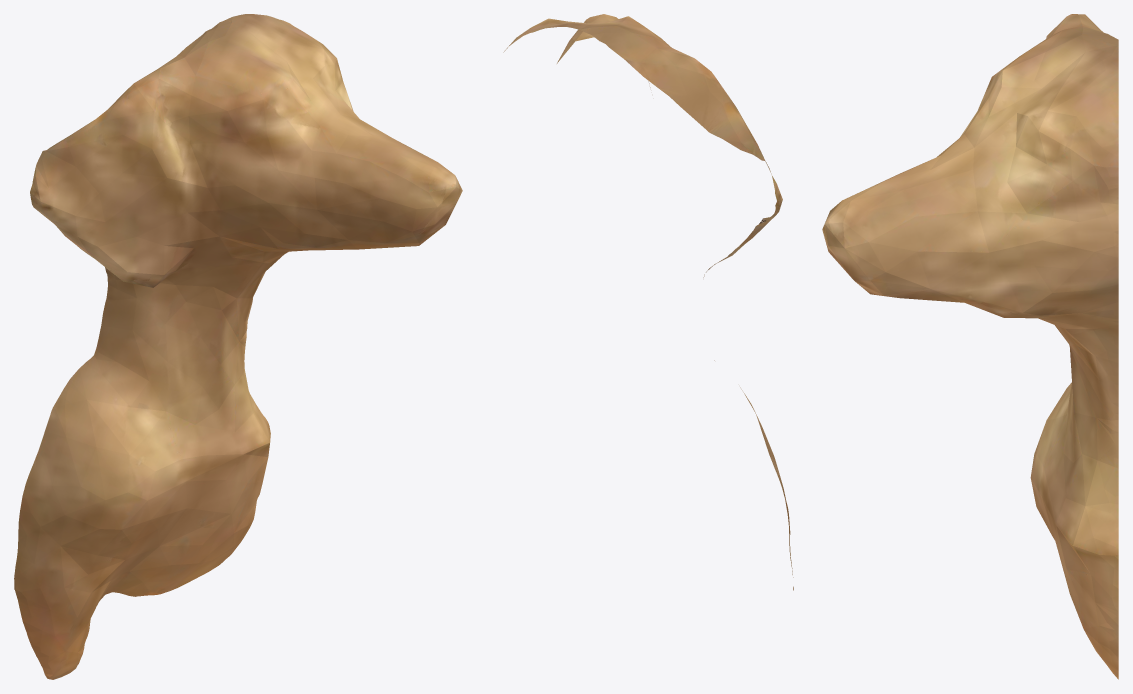
3 views of the same model, side by side, from view 1: azimuth 30°, elevation 25°; view 2: azimuth 150°, elevation 25°; view 3: azimuth 270°, elevation 25° (orthographic). The views are drawn at different scales.
Parts seen in each view (by area): view 1: tmp.o.661; view 2: tmp.o.661; view 3: tmp.o.661.
Boxes of the visible parts, box(x1,y1,x2,y2) form: tmp.o.661: box(14, 14, 462, 679); tmp.o.661: box(503, 14, 793, 590); tmp.o.661: box(822, 14, 1118, 679).
Size of the model in its own units: 0.1129 by 0.201 by 0.074.
Materials: 1 (1 with a texture image).
